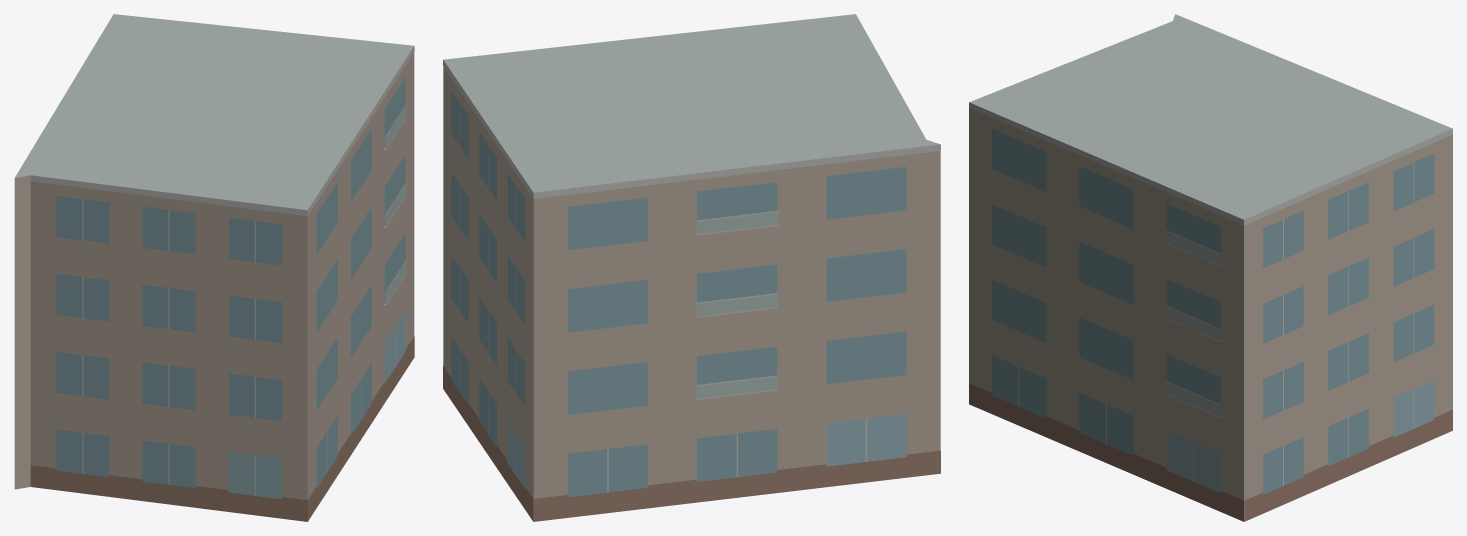
File: survey-upis-32887918.glb
3 renders of one model, left to right at view 1: azimuth 30°, elevation 25°; view 2: azimuth 150°, elevation 25°; view 3: azimuth 270°, elevation 25°, orthographic. The views are drawn at different scales.
Visible parts, largest first — view 1: survey-upis-32887918.tmp; view 2: survey-upis-32887918.tmp; view 3: survey-upis-32887918.tmp.
Boxes of the visible parts, bbox=[...] form: survey-upis-32887918.tmp: bbox=[14, 14, 414, 521]; survey-upis-32887918.tmp: bbox=[443, 14, 940, 521]; survey-upis-32887918.tmp: bbox=[969, 14, 1452, 521].
Bounding box in the file's own units: 18.43 × 12.6 × 18.3.
